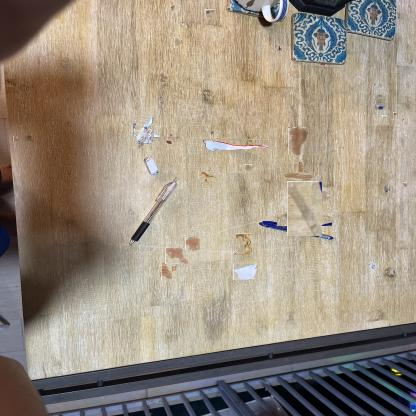dirty: (282, 186, 327, 231), (204, 139, 268, 151), (134, 119, 157, 141), (233, 264, 258, 280), (235, 233, 253, 254), (201, 169, 215, 182)
liquid: (288, 127, 307, 155), (165, 248, 188, 264), (290, 167, 308, 186), (160, 264, 174, 279), (185, 236, 200, 250), (244, 164, 252, 171)
mark: (5, 79, 17, 87), (206, 8, 214, 16), (173, 38, 180, 47), (26, 133, 32, 141), (384, 186, 390, 194), (376, 104, 384, 110), (276, 45, 282, 51), (369, 264, 375, 270), (390, 268, 396, 274), (170, 5, 175, 10), (13, 136, 18, 141), (403, 182, 407, 187), (377, 275, 381, 279), (382, 115, 386, 118), (402, 118, 406, 121), (393, 112, 396, 115)
